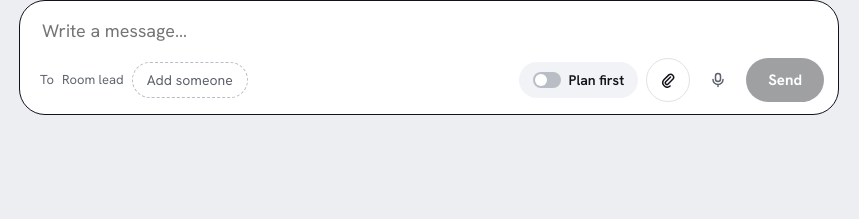
Test: a correction that finishes while the person kept typing brings the stashed draft back
Type "half typed" into the dropdown named "Message general" at (432, 30), box x1=40 y1=15 x2=824 y2=46
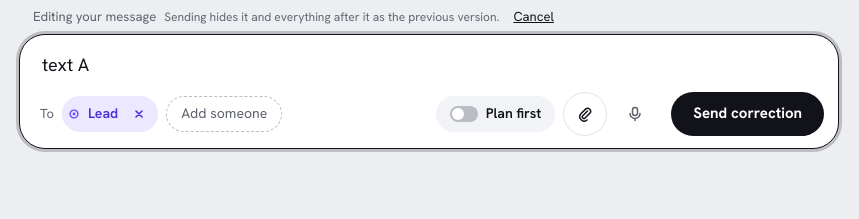
Click the button "Send correction" at (748, 114), box x1=671 y1=92 x2=824 y2=136
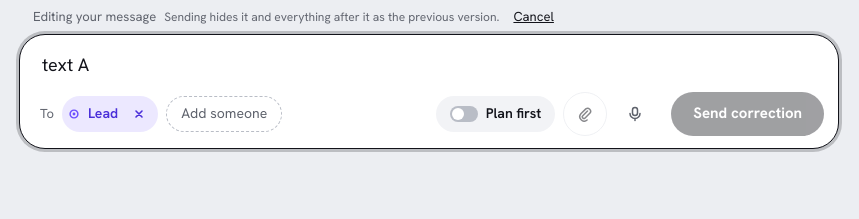
Replace the text in the dropdown named "Message general" with "next thought" at (432, 64), box x1=40 y1=48 x2=824 y2=80
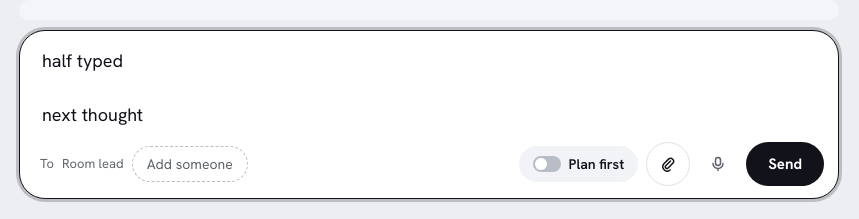
Now the text "Editing your message" is gone
